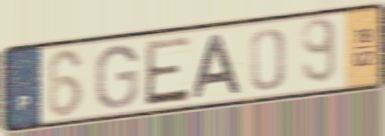0: (248, 26, 288, 93)
6: (46, 46, 87, 119)
9: (299, 16, 339, 91)
A: (191, 32, 245, 101)
E: (143, 34, 192, 109)
G: (93, 42, 141, 111)
